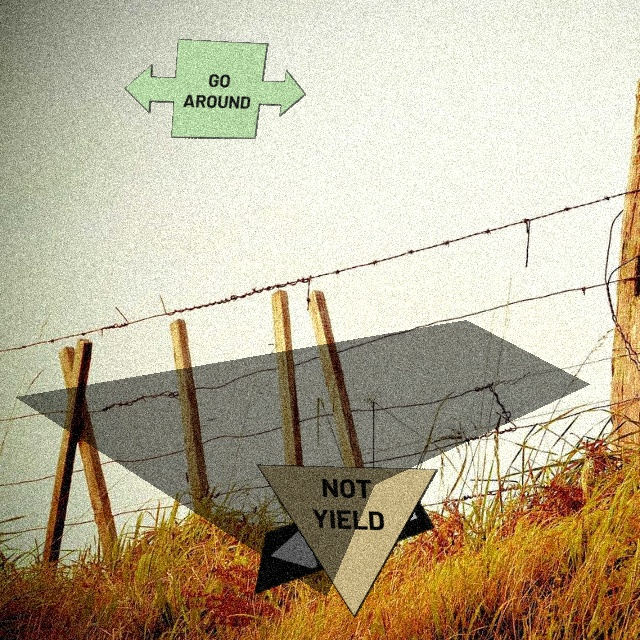GO_AROUND: (124, 38, 306, 139)
NOT_YIELD: (256, 464, 438, 618)
ONE_WAY_ left: (253, 483, 435, 595)
